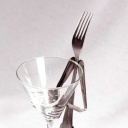Fork: (65, 7, 95, 126)
